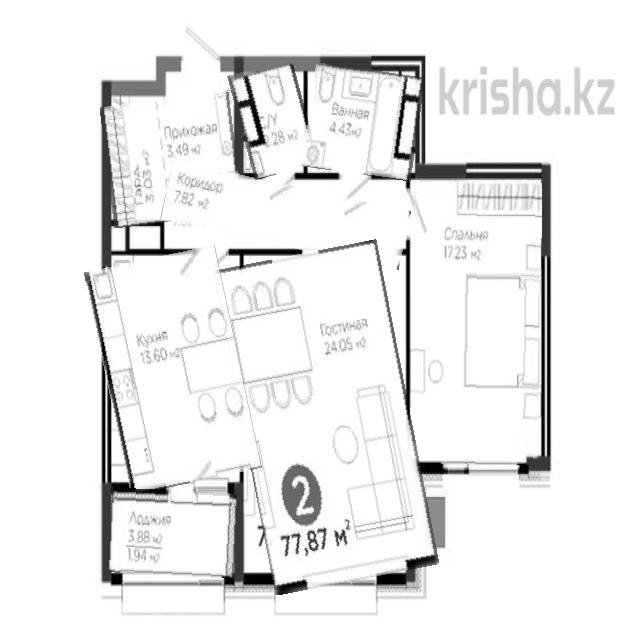balcony: (109, 488, 237, 576)
bathroom: (306, 66, 422, 177), (234, 63, 313, 177)
hallway: (162, 173, 410, 258), (104, 96, 240, 224)
kitchen: (95, 250, 251, 490)
living_room: (227, 246, 424, 589), (411, 181, 541, 464)
